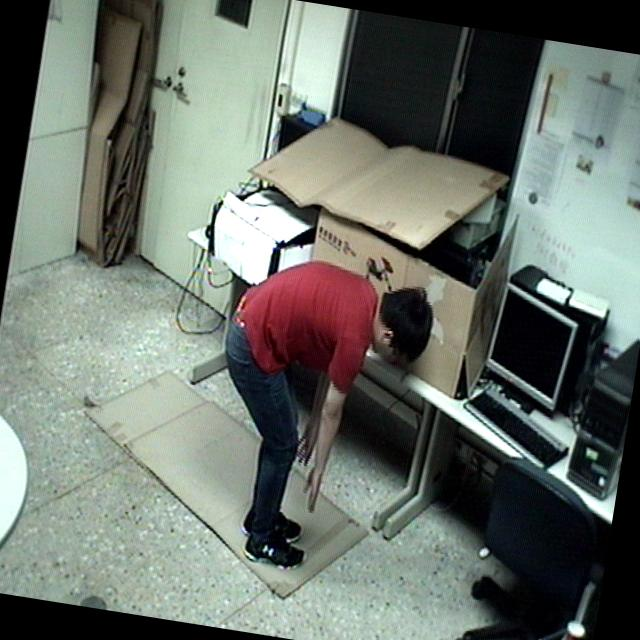bend: (183, 242, 447, 592)
